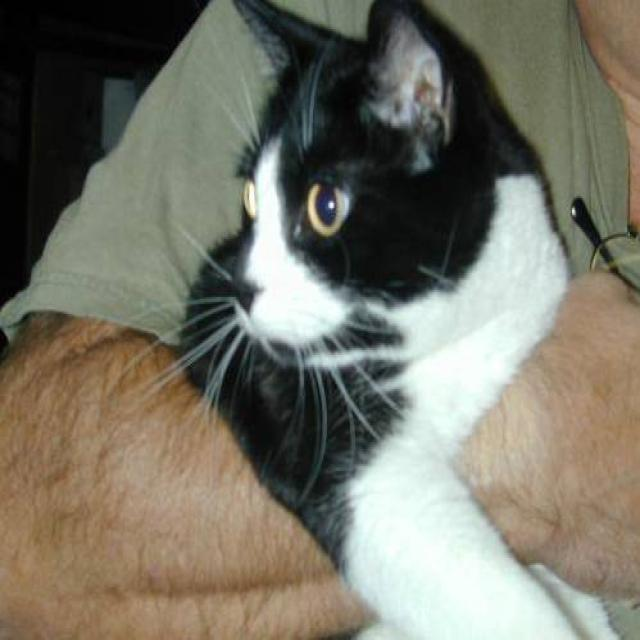cat: (155, 0, 622, 640)
